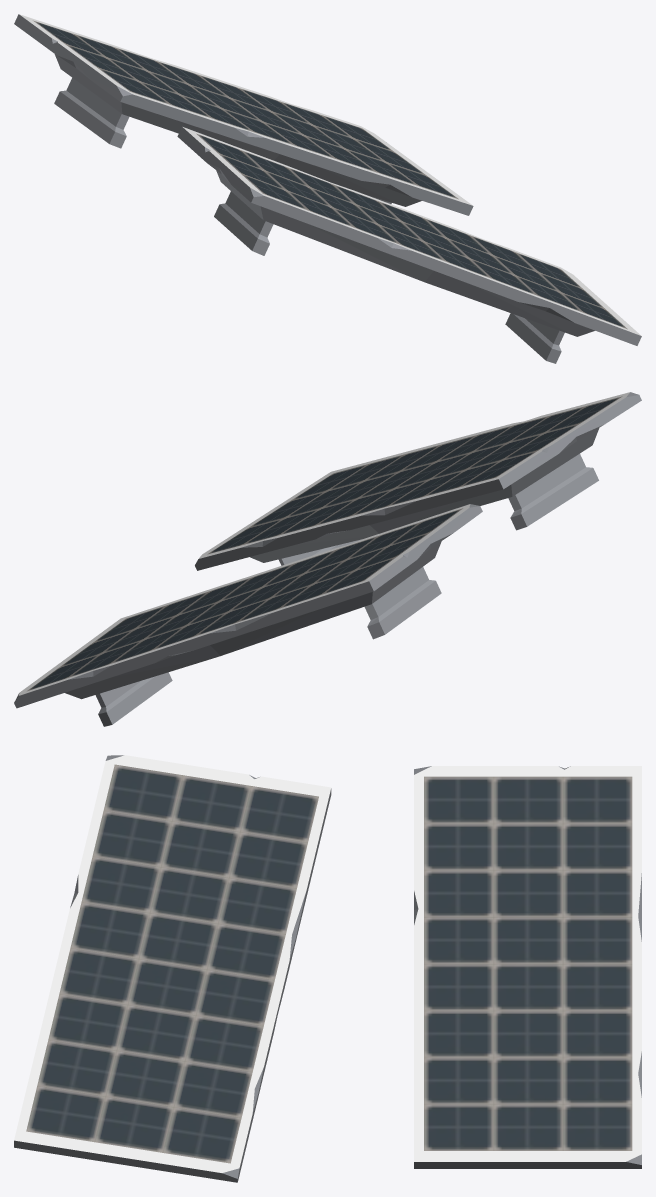
Rendered from apoc_SM_Prop_Roof_SolarPanel_01.gltf.
3 views of the same model, one above another, from view 1: azimuth 30°, elevation 25°; view 2: azimuth 150°, elevation 25°; view 3: azimuth 270°, elevation 25° (orthographic). The views are drawn at different scales.
Parts seen in each view (by area): view 1: SM_Prop_Roof_SolarPanel_01; view 2: SM_Prop_Roof_SolarPanel_01; view 3: SM_Prop_Roof_SolarPanel_01.
Boxes of the visible parts, x1,y1,x2,y2 form: SM_Prop_Roof_SolarPanel_01: (14, 14, 641, 363); SM_Prop_Roof_SolarPanel_01: (14, 392, 641, 726); SM_Prop_Roof_SolarPanel_01: (14, 755, 641, 1182).
Size of the model in its own units: 2.26 by 1.37 by 3.05.
1 material, 1 textured.
